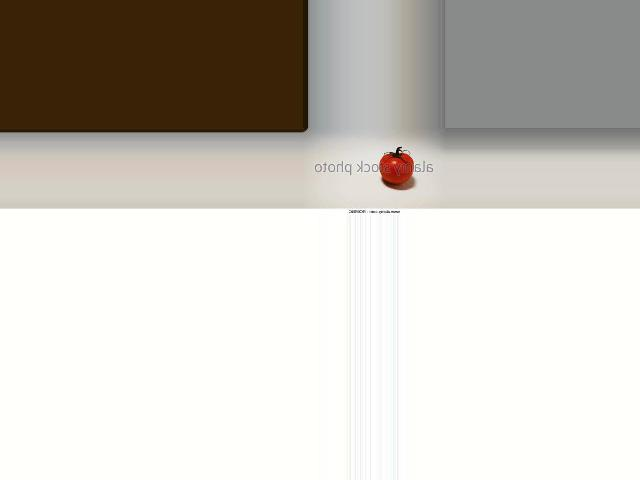tomato: (378, 152, 413, 184)
